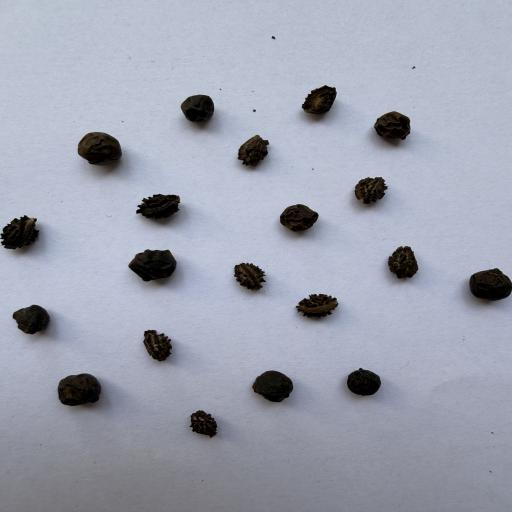Black_pepper: (76, 131, 124, 168), (128, 247, 178, 282), (56, 372, 102, 408), (467, 268, 512, 302), (252, 369, 296, 403), (278, 202, 322, 233), (10, 304, 52, 336), (374, 111, 415, 141), (346, 368, 384, 398), (178, 94, 217, 122)
papaya_seed: (120, 314, 198, 384), (161, 390, 231, 463), (222, 124, 294, 186), (120, 184, 211, 227), (374, 230, 428, 302), (0, 202, 55, 266), (291, 283, 359, 331), (290, 79, 354, 124), (215, 248, 268, 302), (344, 160, 398, 213)
